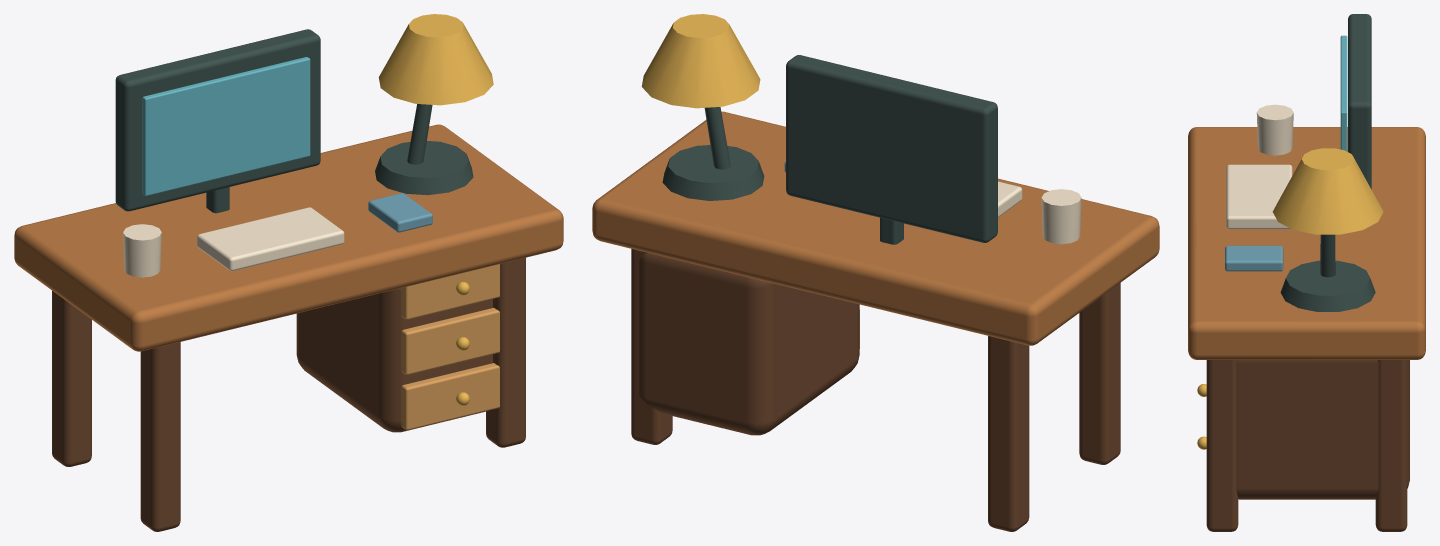
The model's file is desk.glb.
The picture shows the model from 3 angles, left to right: view 1: azimuth 30°, elevation 25°; view 2: azimuth 150°, elevation 25°; view 3: azimuth 270°, elevation 25°; orthographic projection. The views are drawn at different scales.
Visible parts, largest first — view 1: Desktop, MonitorScreen, DrawerUnit, MonitorFrame, LampShade, Leg1, Leg0, Keyboard, Leg3, Drawer0, Drawer1, LampBase (+4 smaller); view 2: Desktop, MonitorFrame, DrawerUnit, LampShade, Leg0, Leg1, LampBase, Leg2, Mug, LampStem; view 3: Desktop, DrawerUnit, LampShade, Leg3, Leg2, Keyboard, LampBase, MonitorFrame, Mug, Mouse, MonitorScreen, LampStem.
Part boxes in pixels (box(x1,y1,x2,y2)): Desktop: box(14, 124, 563, 351); MonitorScreen: box(142, 57, 310, 195); DrawerUnit: box(296, 288, 492, 432); MonitorFrame: box(115, 29, 320, 211); LampShade: box(378, 14, 493, 105); Leg1: box(140, 342, 180, 531); Leg0: box(52, 290, 91, 466); Keyboard: box(197, 207, 344, 271); Leg3: box(486, 257, 525, 447); Drawer0: box(401, 363, 499, 430); Drawer1: box(401, 307, 499, 374); LampBase: box(375, 141, 473, 195); Desktop: box(592, 111, 1159, 345); MonitorFrame: box(786, 55, 997, 242); DrawerUnit: box(639, 253, 859, 435); LampShade: box(641, 14, 760, 108); Leg0: box(988, 336, 1029, 531); Leg1: box(1079, 283, 1120, 464); LampBase: box(662, 145, 764, 200); Leg2: box(631, 249, 672, 444); Mug: box(1041, 189, 1081, 244); LampStem: box(704, 107, 730, 169); Desktop: box(1188, 127, 1425, 359); DrawerUnit: box(1236, 360, 1409, 499); LampShade: box(1272, 148, 1383, 234); Leg3: box(1206, 360, 1238, 531); Leg2: box(1375, 360, 1407, 531); Keyboard: box(1226, 164, 1292, 229); LampBase: box(1280, 260, 1375, 311); MonitorFrame: box(1348, 14, 1371, 189); Mug: box(1256, 104, 1293, 155); Mouse: box(1225, 245, 1283, 271); MonitorScreen: box(1340, 35, 1347, 151); LampStem: box(1320, 234, 1335, 277).
Bounding box in the file's own units: 1.8 × 1.54 × 0.9.
